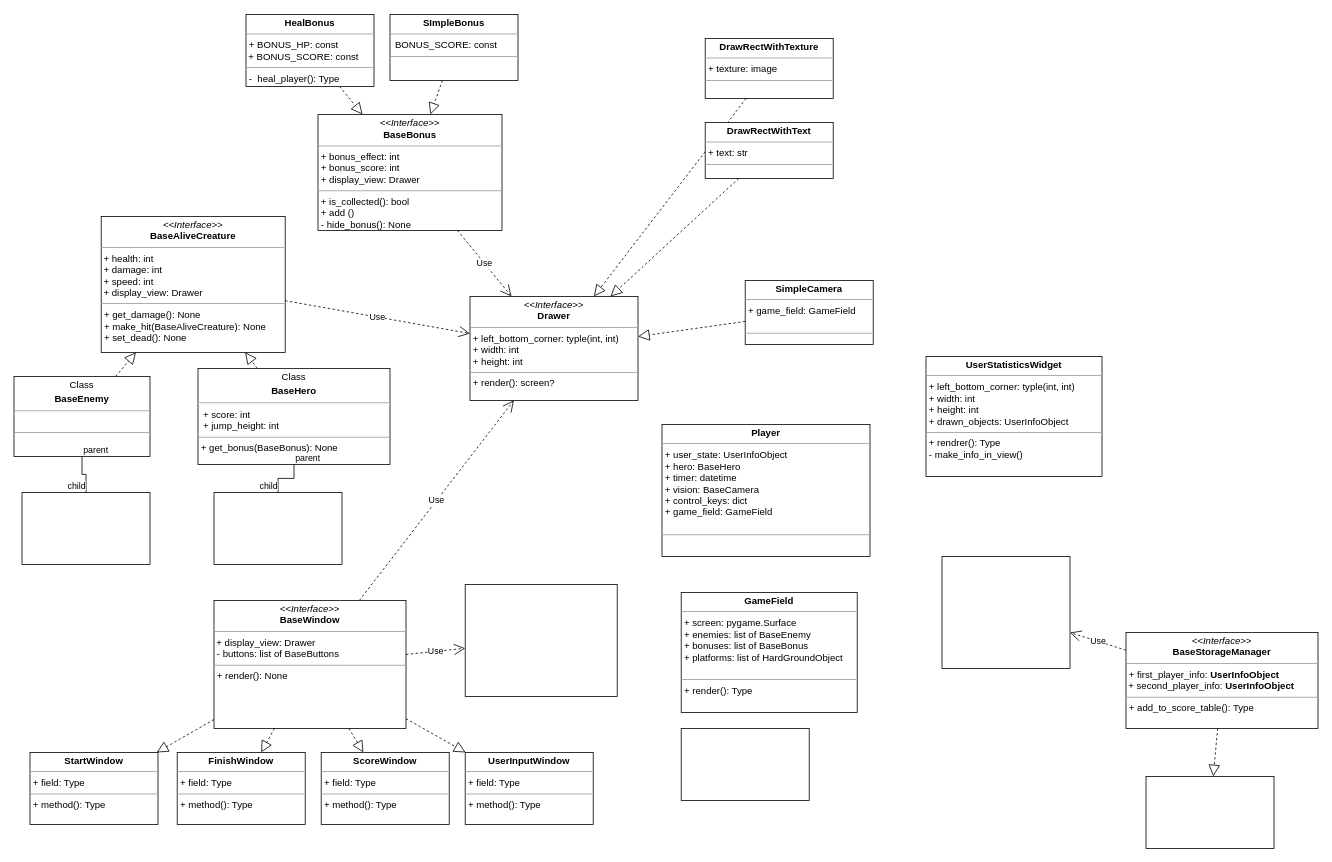
Some shapes in this 1332 by 862 pixel diagram are drawn without their labels. The shapes that lost their labels are listed below. From the top down, each one's centre as x and y in pixels, then its label:
At (x=85, y=528): "AngryBug + field: Type + method(): Type".
At (x=277, y=528): "MarioHero + field: Type + method(): Type".
At (x=1005, y=612): "UserInfoObject username: str timer: int score: int + method(): Type".
At (x=540, y=640): "<<Interface>> BaseButton - color + display_view: Drawer + cliked(): None".
At (x=744, y=764): "HardGroundObject + display_view: Drawer + render(): Type".
At (x=1209, y=812): "SqliteDBManager + field: Type + method(): Type".
